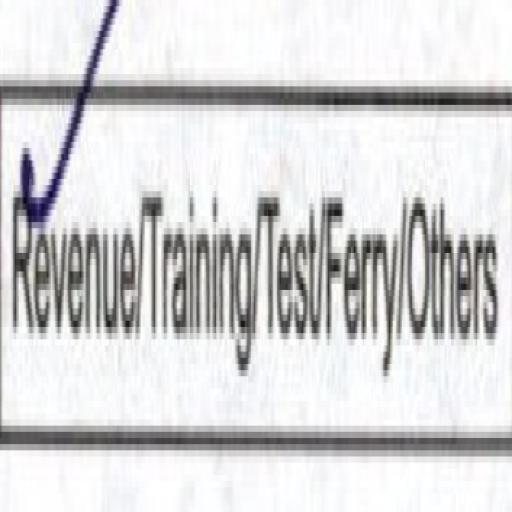check: (2, 56, 142, 473)
